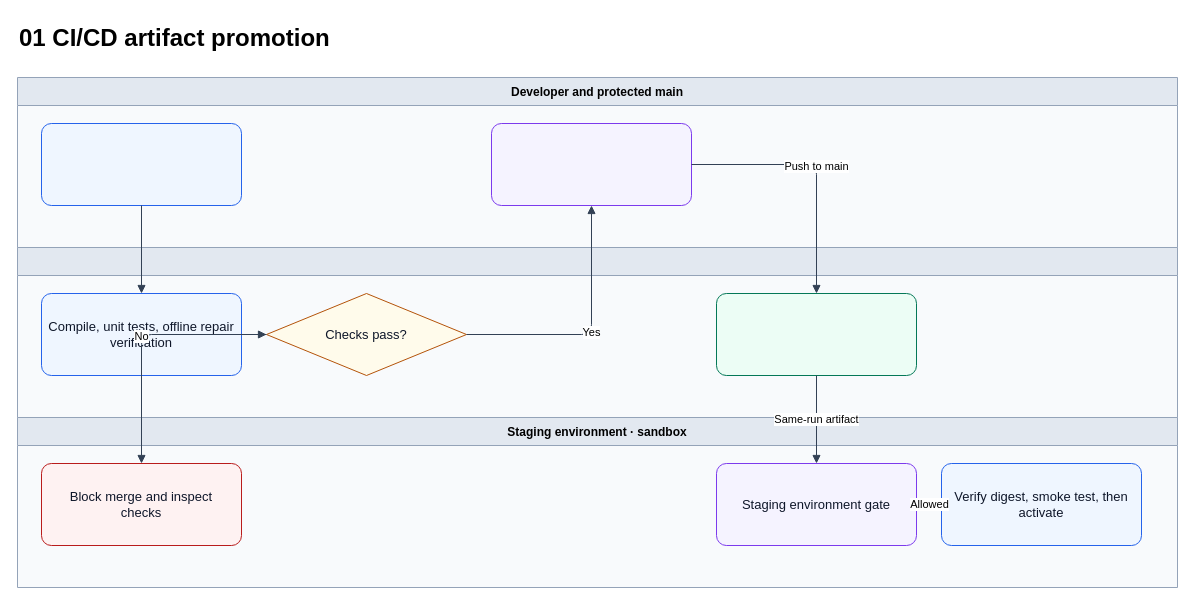
The diagram is 1195 pixels wide and 605 high, and some of its shapes have lost their labels. The box of each missing label's shape, as (x1, y1, x2, y2) in pixels:
GitHub Actions · validation: (16, 246, 1178, 418)
Open or update PR: (40, 122, 242, 206)
Re-run checks on main; build zipapp and record SHA-256: (716, 292, 916, 376)
Review and merge through protected main: (490, 122, 692, 206)
